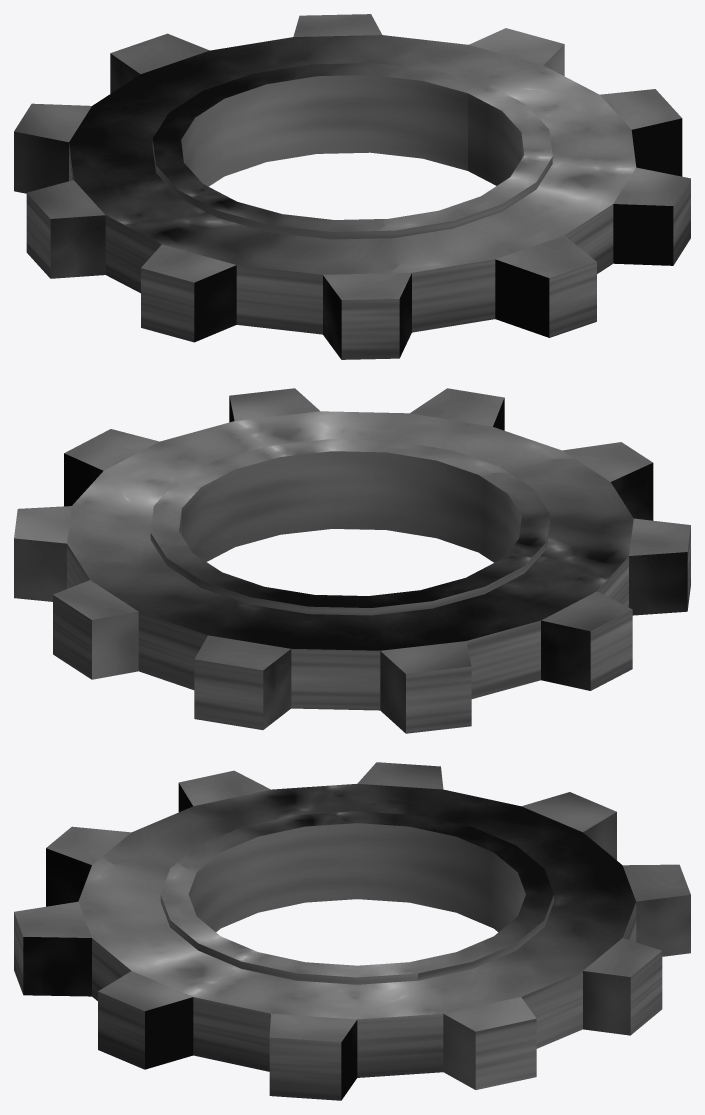
The model's file is Cogwheel_black.fbx.
The picture shows the model from 3 angles, top to bottom: view 1: azimuth 30°, elevation 25°; view 2: azimuth 150°, elevation 25°; view 3: azimuth 270°, elevation 25°; orthographic projection. The views are drawn at different scales.
Visible parts, largest first — view 1: polySurface2; view 2: polySurface2; view 3: polySurface2.
Boxes of the visible parts, x1,y1,x2,y2 form: polySurface2: (14, 14, 690, 359); polySurface2: (14, 388, 690, 733); polySurface2: (14, 762, 690, 1100).
Bounding box in the file's own units: 11.18 × 1.41 × 11.41.
Materials: 1 (1 with a texture image).
